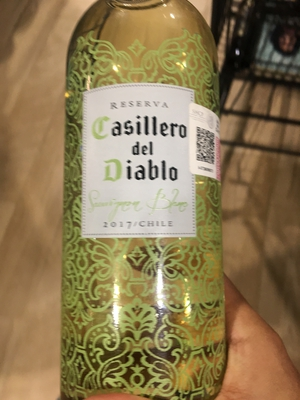casillero del diablo sauvignon blanc: (61, 12, 230, 394)
